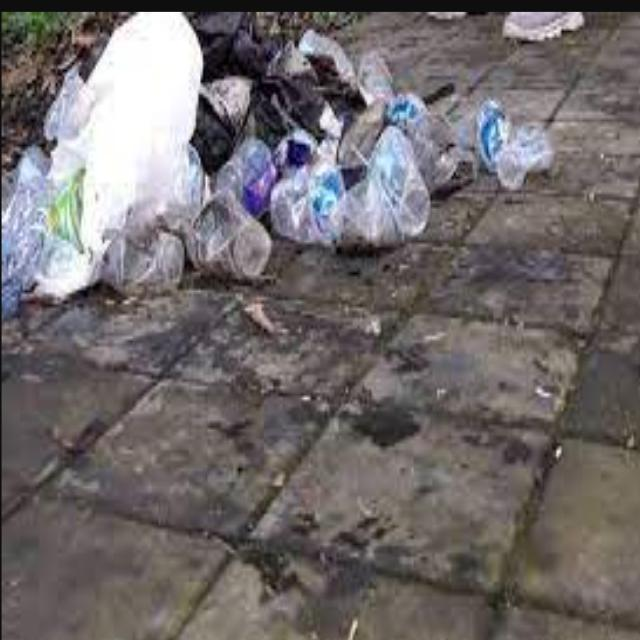GelasPlastik: (362, 123, 432, 240), (187, 194, 269, 278), (276, 157, 346, 242), (497, 123, 555, 200)
